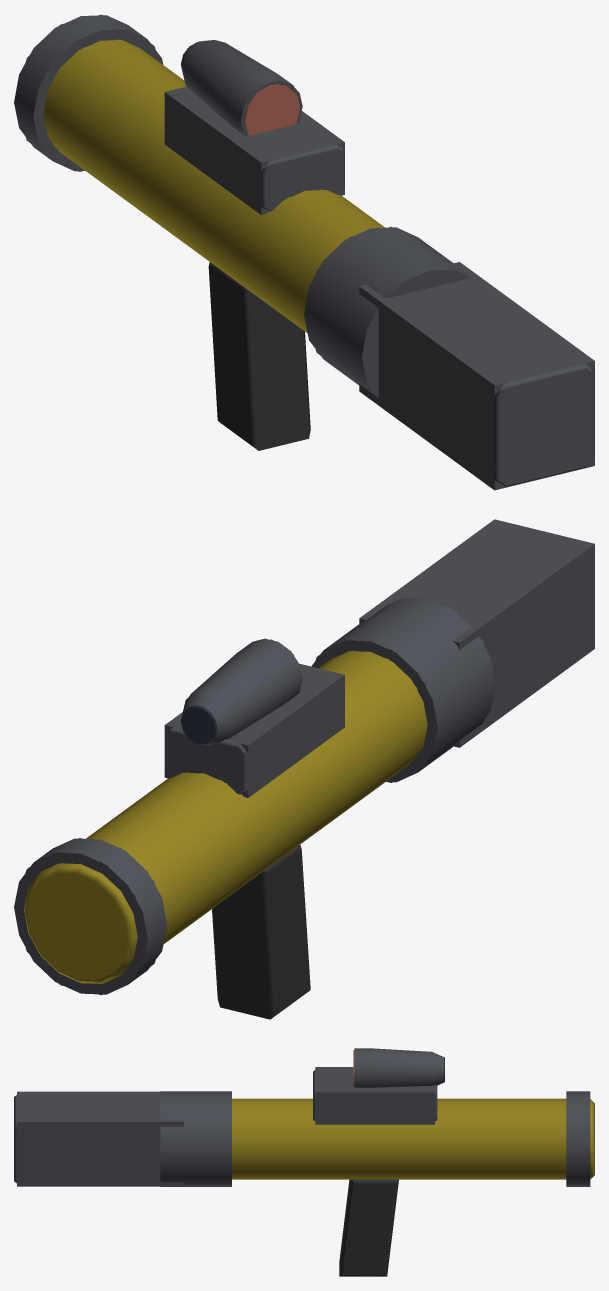
File: st_air_l.glb
3 views of the same model, one above another, from view 1: azimuth 30°, elevation 25°; view 2: azimuth 150°, elevation 25°; view 3: azimuth 270°, elevation 25° (orthographic). The views are drawn at different scales.
Visible parts, largest first — view 1: L0, L1; view 2: L0, L1; view 3: L0, L1.
Part boxes in pixels (left/top/right/bottom): L0: left=14, top=15, right=594, bottom=487; L1: left=25, top=14, right=594, bottom=490; L0: left=14, top=522, right=594, bottom=1019; L1: left=14, top=519, right=594, bottom=995; L0: left=14, top=1048, right=594, bottom=1276; L1: left=17, top=1049, right=590, bottom=1186.
Size of the model in its own units: 0.08 by 0.2025 by 0.4864.
